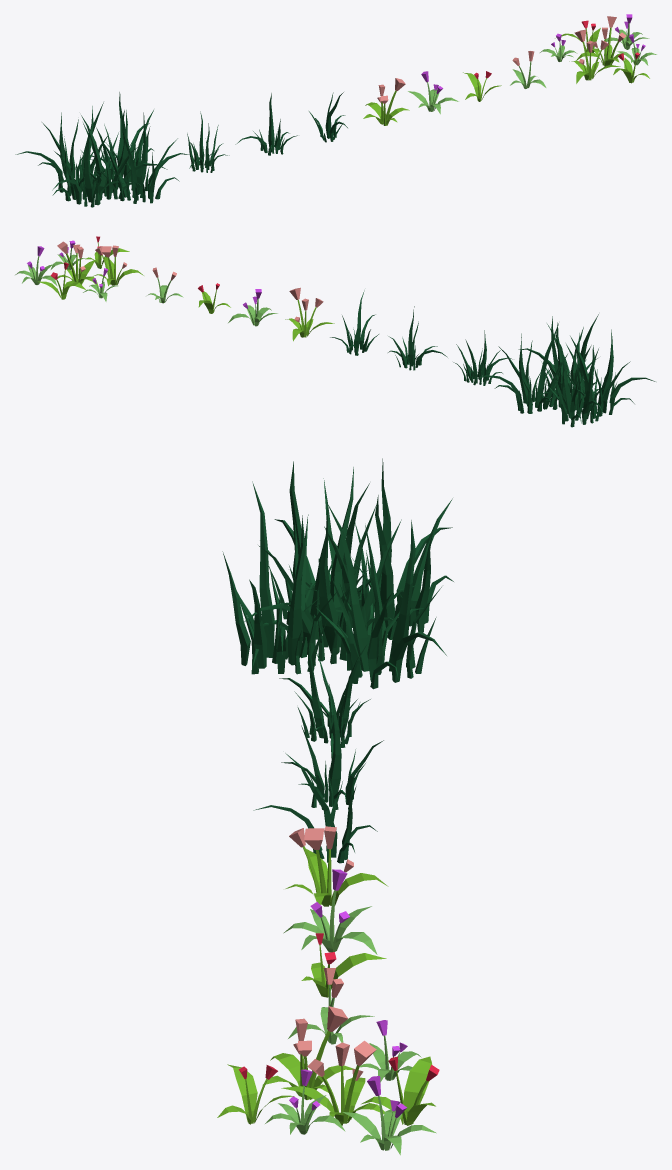
Rendered from Bush Package.fbx.
3 renders of one model, top to bottom at view 1: azimuth 30°, elevation 25°; view 2: azimuth 150°, elevation 25°; view 3: azimuth 270°, elevation 25°, orthographic. The views are drawn at different scales.
Visible parts, largest first — view 1: Bush.003, Mesh_204.003, Bush.001, Mesh_223, Bush.002, Mesh_204, Bush, Mesh_211, Mesh_220; view 2: Bush.003, Mesh_204.003, Bush.001, Bush.002, Mesh_223, Bush, Mesh_204, Mesh_211, Mesh_220; view 3: Bush.003, Mesh_204.003, Bush.001, Mesh_223, Bush.002, Mesh_204, Bush, Mesh_220, Mesh_211.
Part boxes in pixels (x1,y1,x2,y2): Bush.003: (15,92,188,207); Mesh_204.003: (540,14,656,83); Bush.001: (187,111,229,172); Mesh_223: (363,78,409,125); Bush.002: (235,93,297,155); Mesh_204: (408,71,458,114); Bush: (309,92,347,142); Mesh_211: (510,51,546,88); Mesh_220: (463,71,501,101); Bush.003: (475,314,655,427); Mesh_204.003: (15,236,143,301); Bush.001: (453,330,512,385); Bush.002: (388,306,447,370); Mesh_223: (285,287,334,341); Bush: (330,290,378,355); Mesh_204: (228,289,277,326); Mesh_211: (147,267,183,303); Mesh_220: (198,283,230,313); Bush.003: (222,458,453,689); Mesh_204.003: (217,1006,439,1155); Bush.001: (279,639,370,747); Mesh_223: (285,826,388,906); Bush.002: (281,683,383,809); Mesh_204: (283,869,377,954); Bush: (253,753,377,863); Mesh_220: (301,933,386,997); Mesh_211: (288,968,374,1044).
Bounding box in the file's own units: 1189 × 147 × 201.
